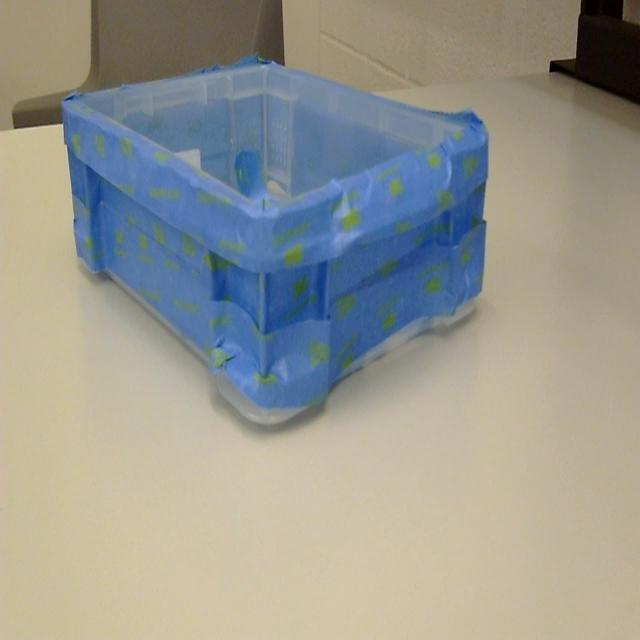bucket: (60, 59, 490, 433)
